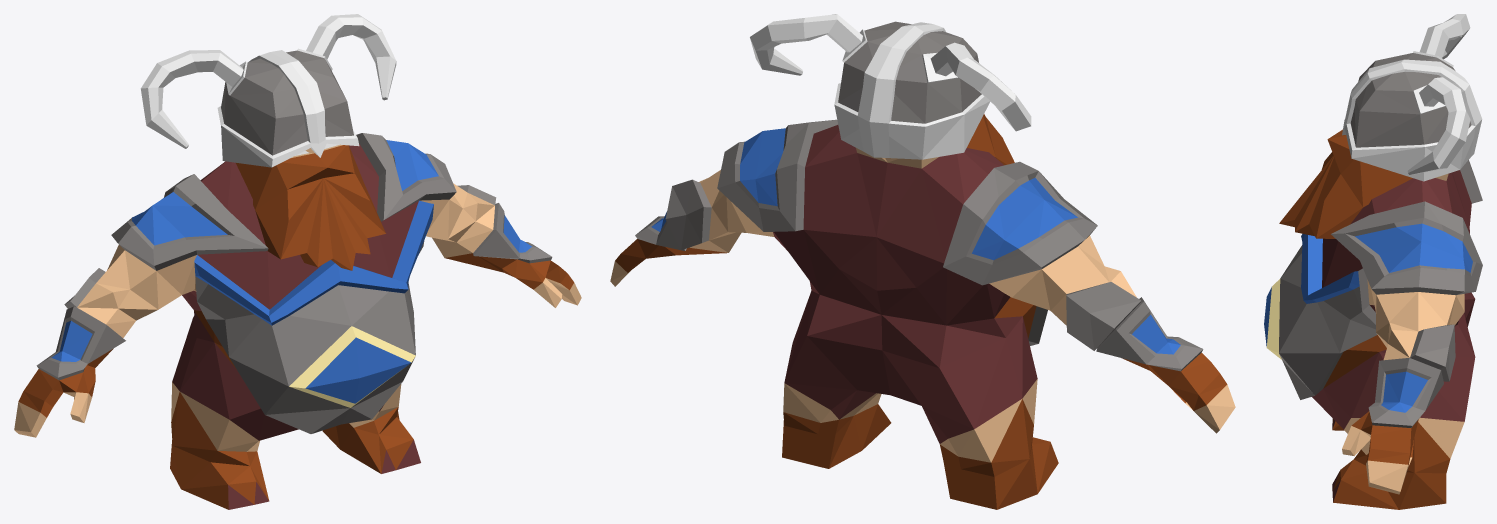
3 renders of one model, left to right at view 1: azimuth 30°, elevation 25°; view 2: azimuth 150°, elevation 25°; view 3: azimuth 270°, elevation 25°, orthographic. The views are drawn at different scales.
Parts seen in each view (by area): view 1: dwarf.001_5, body armor_4, Helmet_8, armor sholder_2, beard_3, hand armor_7, elbow armour_6; view 2: dwarf.001_5, Helmet_8, armor sholder_2, elbow armour_6, hand armor_7, beard_3; view 3: dwarf.001_5, Helmet_8, body armor_4, armor sholder_2, beard_3, hand armor_7, elbow armour_6.
Part boxes in pixels (left/top/right/bottom): dwarf.001_5: left=14, top=143, right=581, bottom=509; body armor_4: left=194, top=200, right=433, bottom=433; Helmet_8: left=140, top=14, right=396, bottom=167; armor sholder_2: left=111, top=133, right=456, bottom=270; beard_3: left=236, top=145, right=385, bottom=270; hand armor_7: left=36, top=203, right=552, bottom=380; elbow armour_6: left=64, top=185, right=496, bottom=308; dwarf.001_5: left=610, top=125, right=1235, bottom=509; Helmet_8: left=750, top=14, right=1031, bottom=159; armor sholder_2: left=717, top=119, right=1097, bottom=285; elbow armour_6: left=665, top=179, right=1141, bottom=350; hand armor_7: left=635, top=212, right=1203, bottom=371; beard_3: left=967, top=114, right=1014, bottom=165; dwarf.001_5: left=1312, top=170, right=1475, bottom=509; Helmet_8: left=1342, top=14, right=1482, bottom=181; body armor_4: left=1264, top=233, right=1377, bottom=399; armor sholder_2: left=1331, top=160, right=1482, bottom=295; beard_3: left=1279, top=129, right=1412, bottom=238; hand armor_7: left=1368, top=357, right=1443, bottom=427; elbow armour_6: left=1410, top=324, right=1455, bottom=381.
Size of the model in its own units: 4.92 by 3.49 by 1.71.
